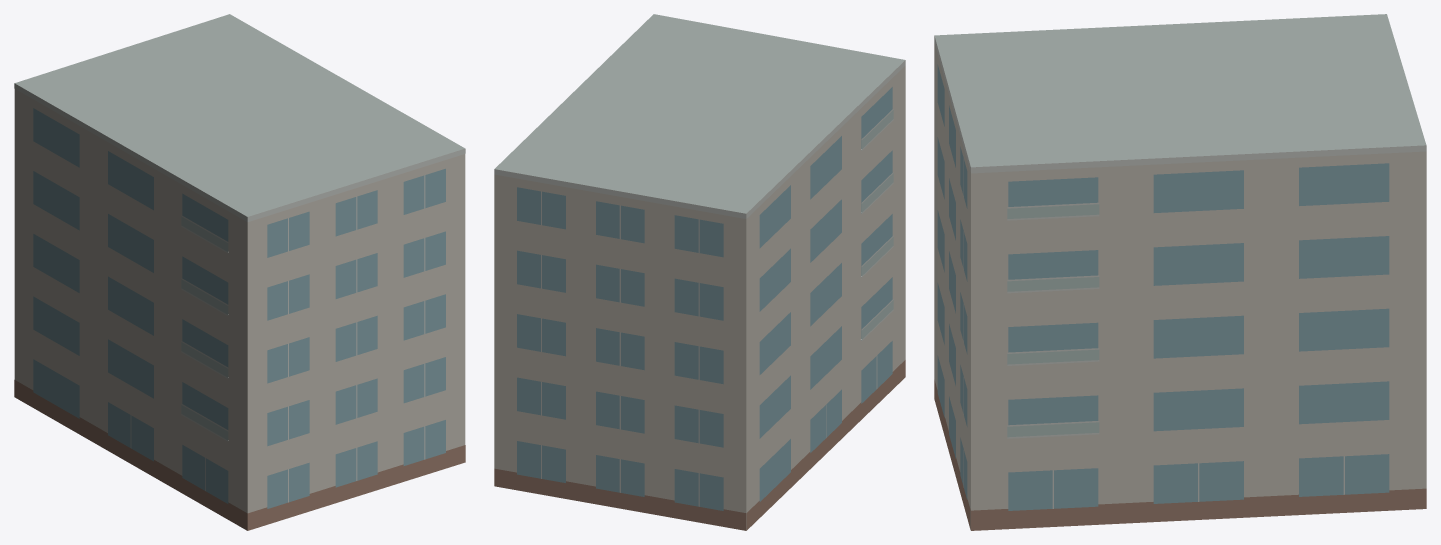
The model's file is survey-upis-32975235.glb.
3 renders of one model, left to right at view 1: azimuth 30°, elevation 25°; view 2: azimuth 150°, elevation 25°; view 3: azimuth 270°, elevation 25°, orthographic. The views are drawn at different scales.
Parts seen in each view (by area): view 1: survey-upis-32975235.tmp; view 2: survey-upis-32975235.tmp; view 3: survey-upis-32975235.tmp.
Part boxes in pixels (x1,y1,x2,y2): survey-upis-32975235.tmp: [14, 14, 465, 530]; survey-upis-32975235.tmp: [494, 14, 905, 530]; survey-upis-32975235.tmp: [934, 14, 1426, 530].
Size of the model in its own units: 13.13 by 14.5 by 17.8.
